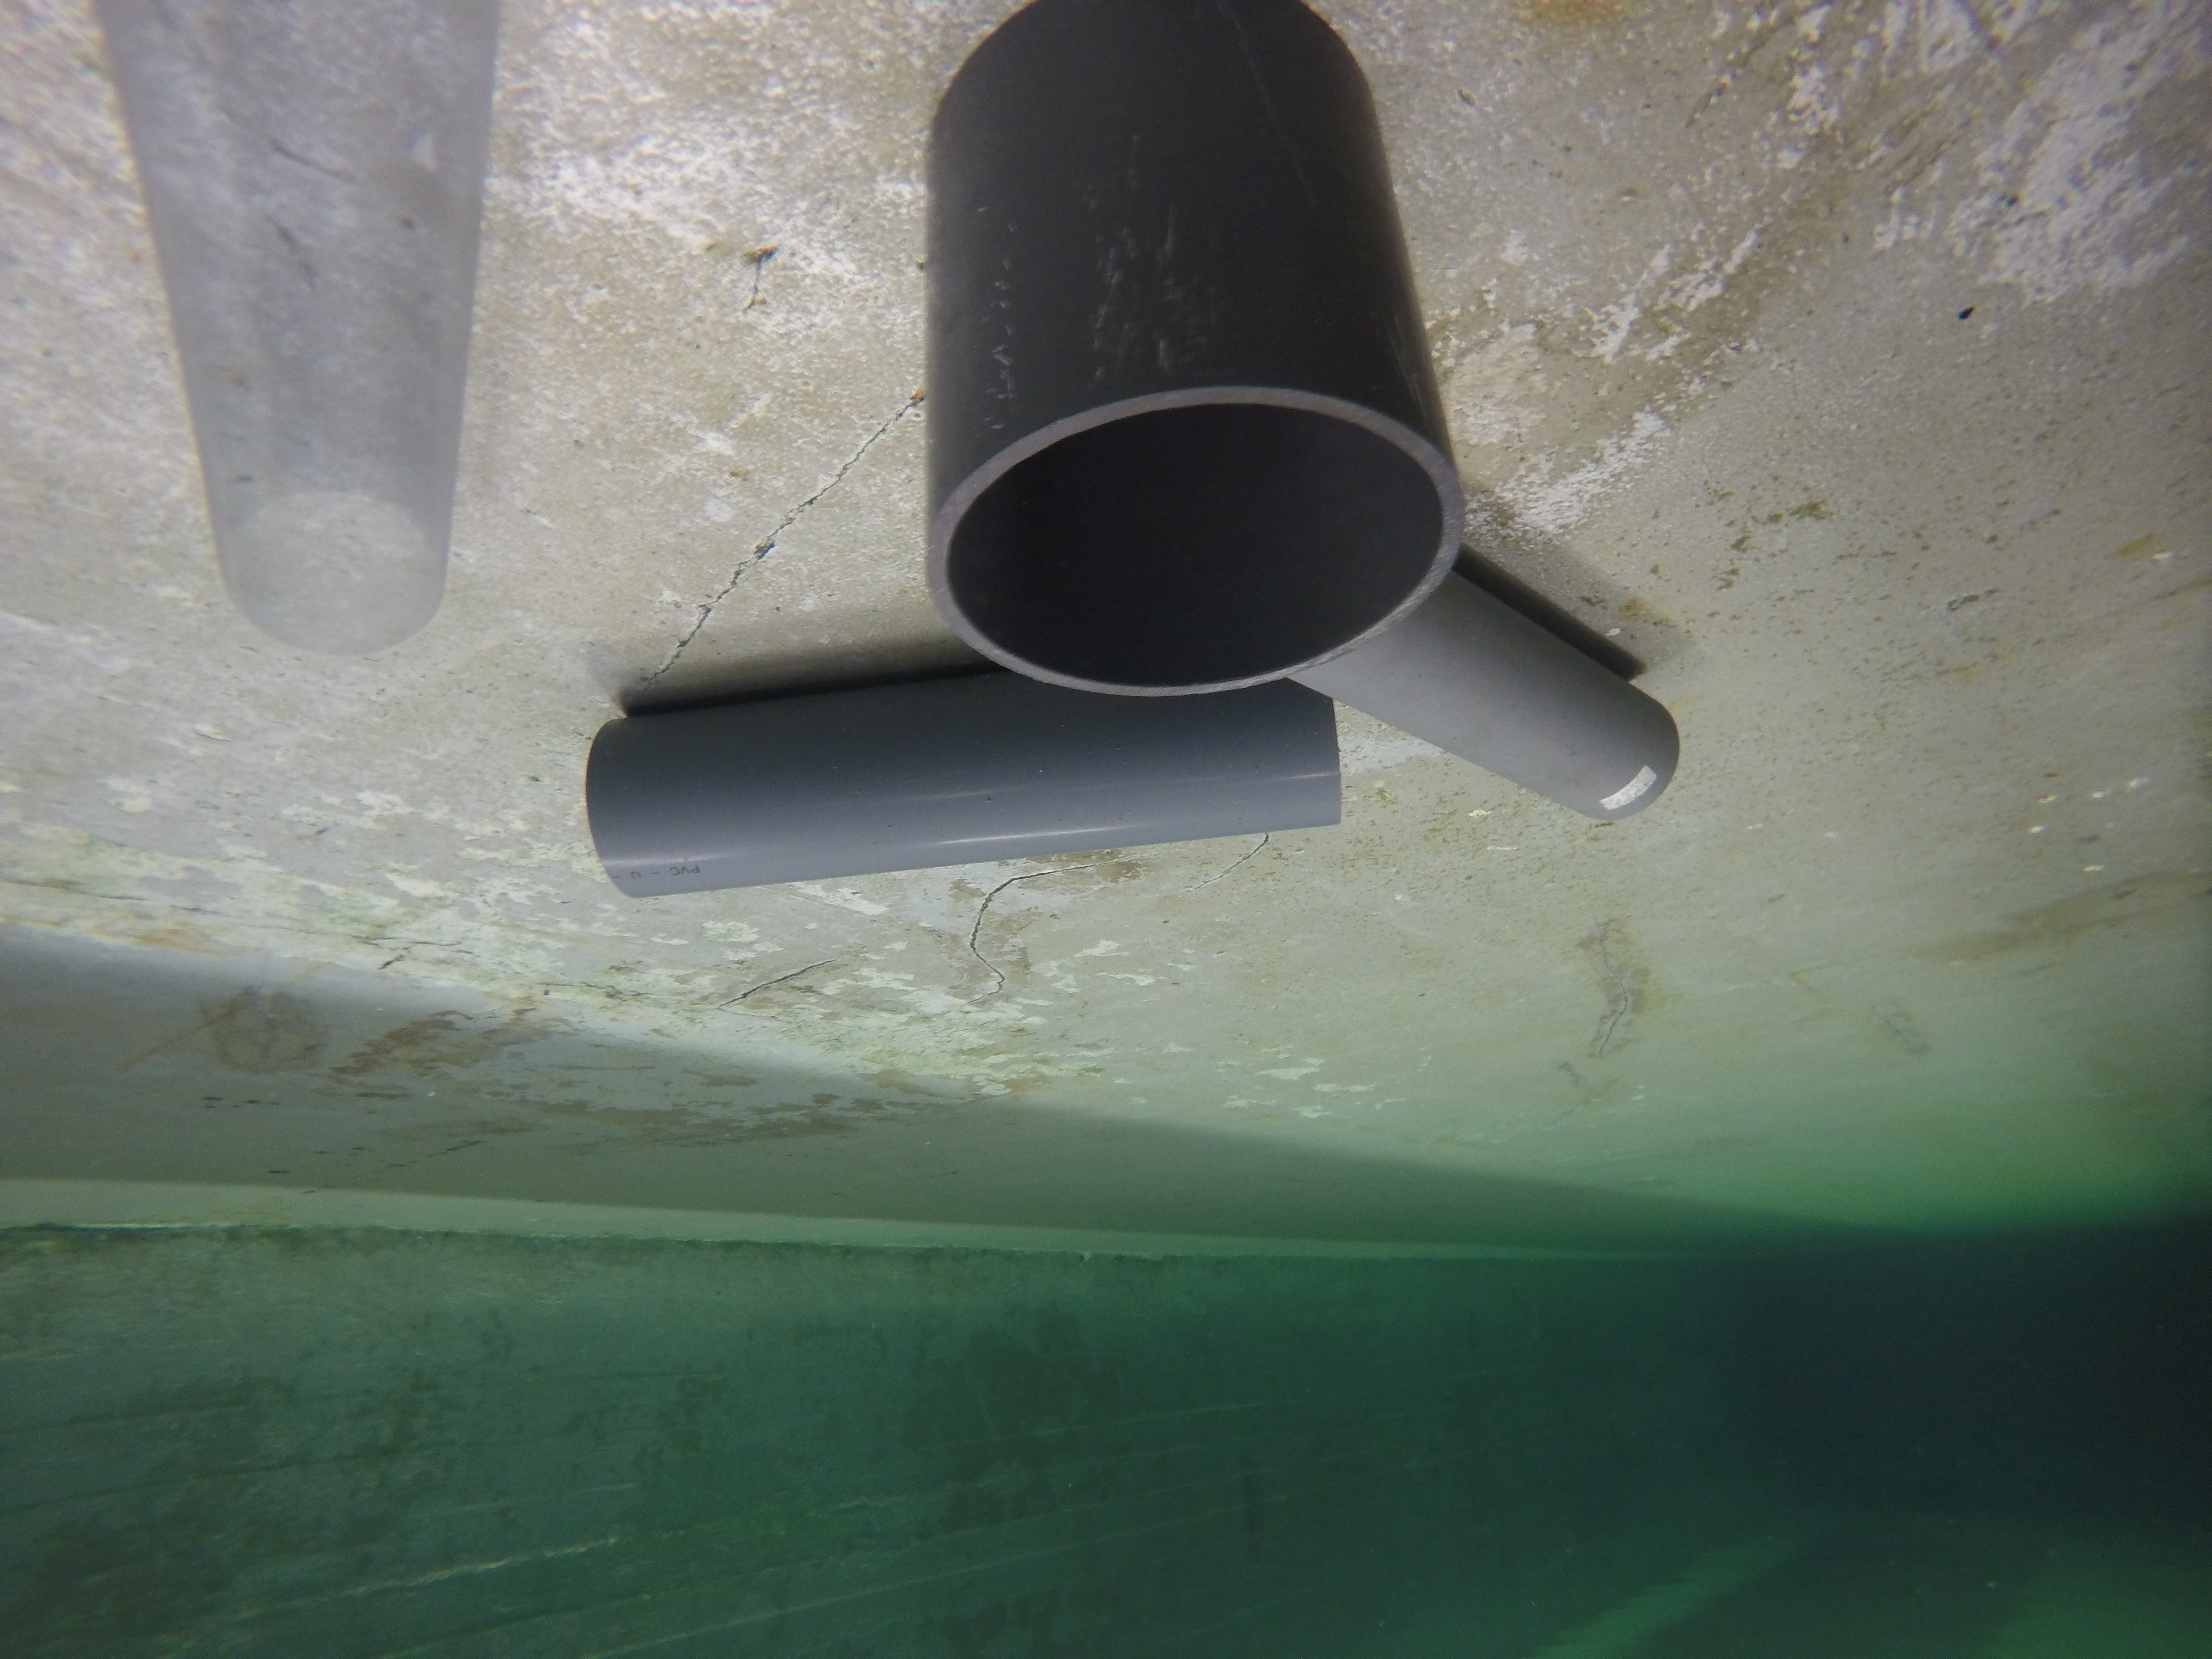pipe: (914, 0, 1468, 695), (87, 0, 505, 657), (585, 669, 1345, 899), (1284, 566, 1683, 819)
